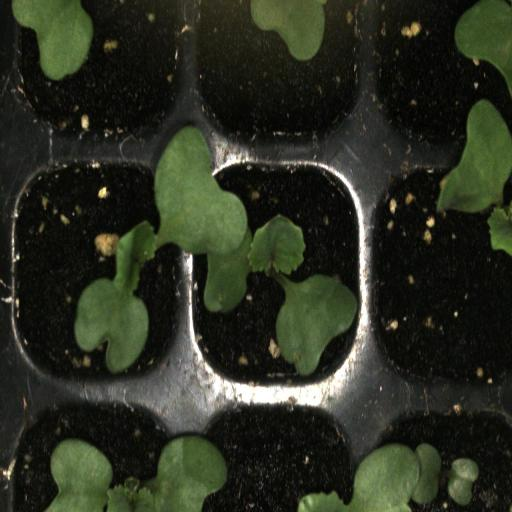seedling: (6, 137, 190, 386), (190, 141, 369, 395), (6, 388, 192, 512)
